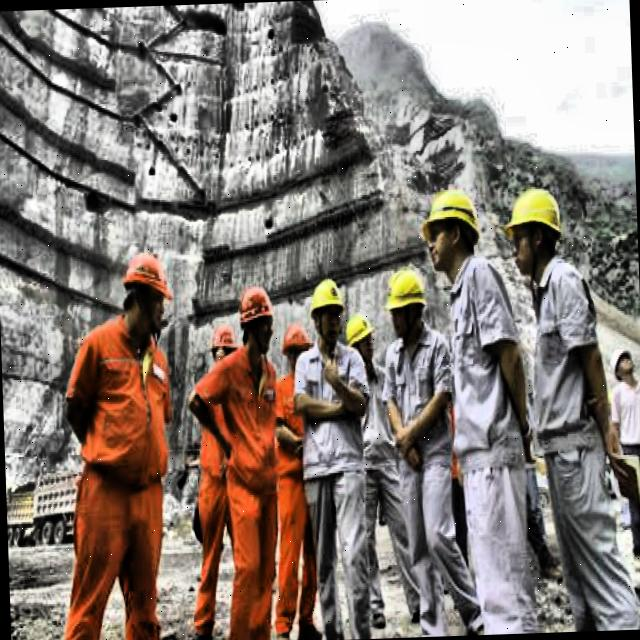helmet: (416, 181, 486, 285), (501, 180, 567, 282), (116, 243, 174, 339), (235, 280, 278, 360), (383, 266, 428, 340), (302, 272, 346, 346), (342, 311, 381, 370), (208, 322, 242, 383), (282, 320, 314, 382), (606, 341, 636, 386)
